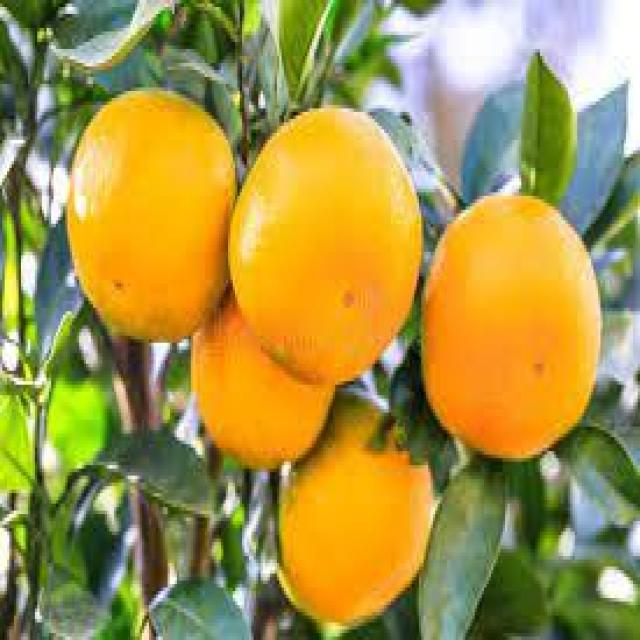fruit: (234, 110, 417, 376), (423, 195, 599, 455), (67, 88, 236, 341), (279, 403, 432, 622), (192, 294, 335, 464)
